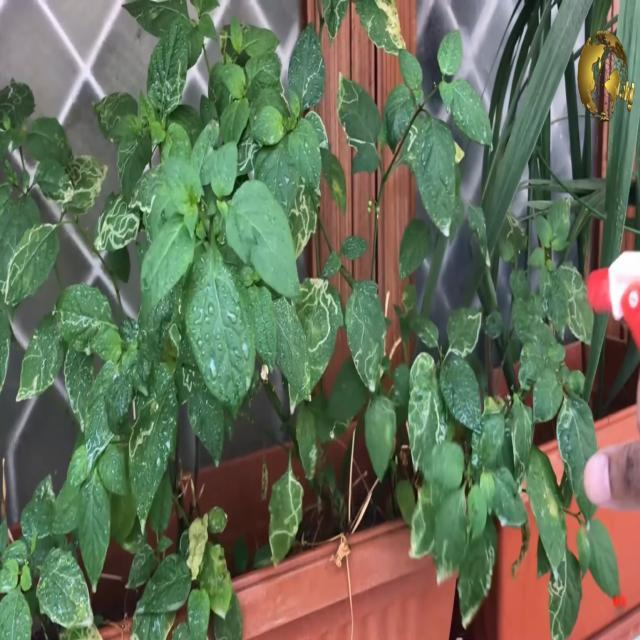Tomato healthy leaf: (224, 177, 302, 299)
Tomato target spot leaf: (128, 360, 178, 538), (287, 276, 343, 413), (554, 396, 600, 530), (406, 351, 448, 475), (0, 221, 59, 308), (36, 543, 94, 631), (344, 278, 384, 396), (15, 310, 64, 403), (458, 518, 498, 630), (85, 359, 122, 476), (54, 281, 112, 355), (148, 14, 190, 115), (550, 258, 594, 348), (335, 71, 381, 155), (287, 19, 326, 114), (432, 486, 468, 587), (268, 472, 304, 572), (92, 190, 142, 256), (548, 546, 581, 640), (354, 0, 406, 55), (63, 154, 109, 216), (64, 345, 96, 432), (117, 128, 153, 204), (121, 0, 190, 39), (92, 89, 138, 147), (287, 178, 318, 260), (509, 397, 535, 488), (407, 480, 434, 562), (446, 305, 484, 359), (36, 157, 74, 205), (294, 407, 318, 482), (125, 540, 156, 590), (322, 0, 348, 47), (304, 105, 330, 149), (502, 214, 530, 254), (236, 135, 262, 177), (406, 112, 424, 157), (180, 361, 198, 399), (166, 320, 184, 358), (328, 414, 354, 440)
